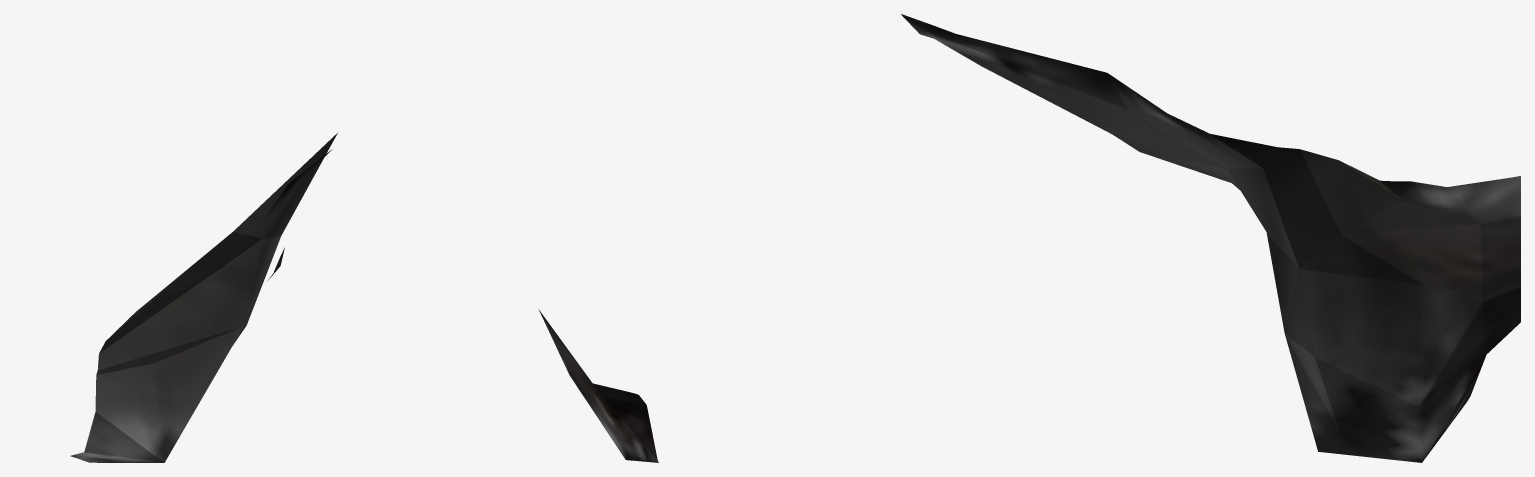
3 renders of one model, left to right at view 1: azimuth 30°, elevation 25°; view 2: azimuth 150°, elevation 25°; view 3: azimuth 270°, elevation 25°, orthographic. The views are drawn at different scales.
Bounding box in the file's own units: 0.0991 × 0.1115 × 0.1499.
Materials: 1 (1 with a texture image).
